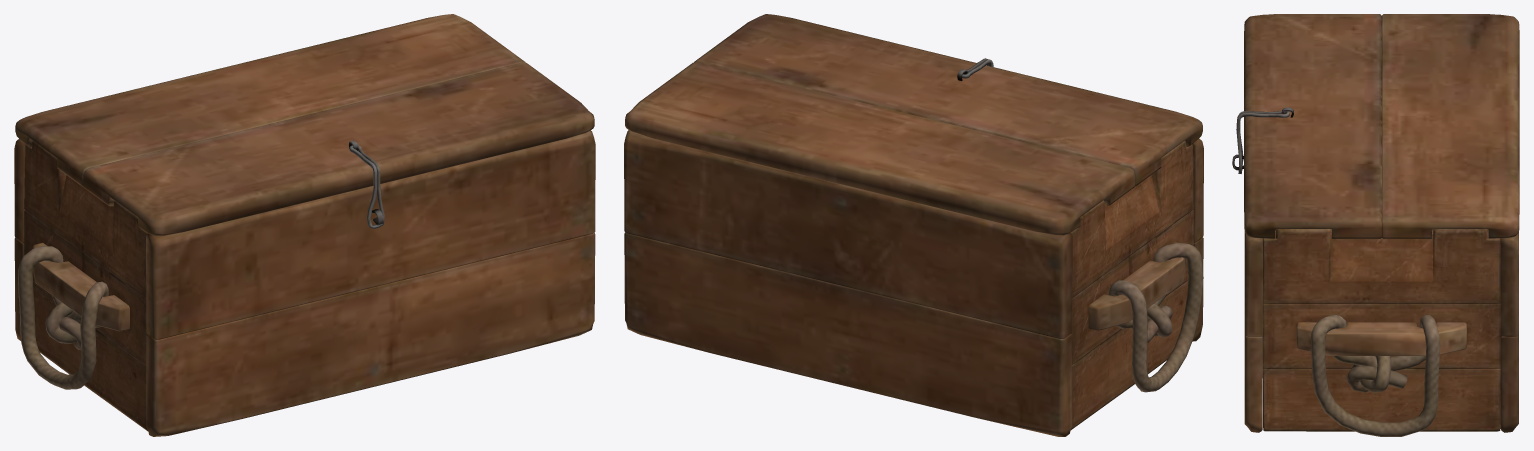
File: wooden_crate_01.glb
The picture shows the model from 3 angles, left to right: view 1: azimuth 30°, elevation 25°; view 2: azimuth 150°, elevation 25°; view 3: azimuth 270°, elevation 25°; orthographic projection. The views are drawn at different scales.
Parts seen in each view (by area): view 1: wooden_crate_01_lid; view 2: wooden_crate_01_lid; view 3: wooden_crate_01_lid.
Part boxes in pixels (x1,y1,x2,y2): wooden_crate_01_lid: (14, 14, 595, 436); wooden_crate_01_lid: (624, 14, 1203, 436); wooden_crate_01_lid: (1232, 14, 1519, 436).
Bounding box in the file's own units: 0.8253 × 0.3496 × 0.4089.
Materials: 1 (1 with a texture image).
